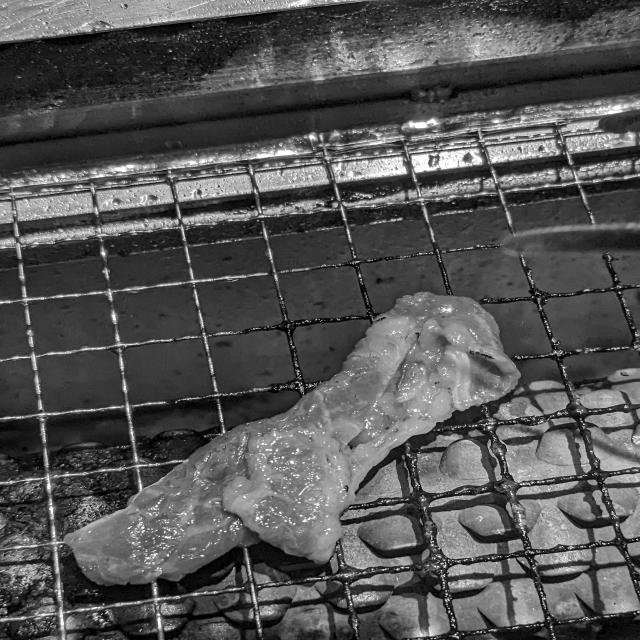NG undercooked beef,: (44, 290, 547, 598)
